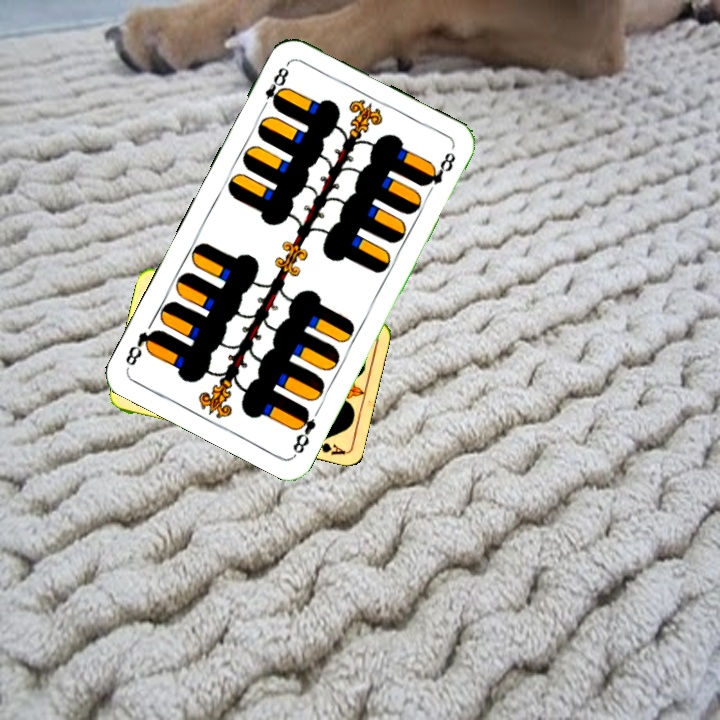E8: (257, 59, 292, 114), (288, 404, 319, 458)
